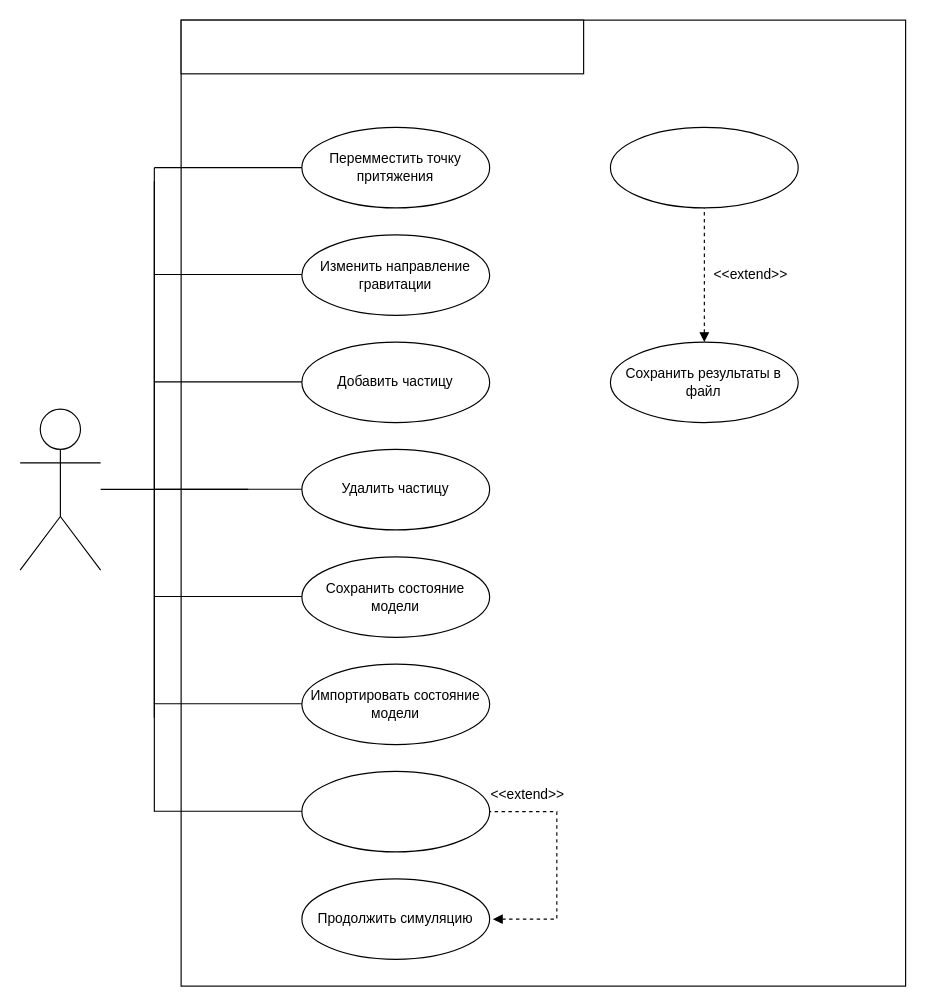
The diagram is 926 pixels wide and 1006 high, and some of its shapes have lost their labels. The centre of each missing label's shape, as x and y in pixels:
"Выполнить тестирование эффективности" goes at [703,167].
"Остановить симуляцию" goes at [395,811].
"Пользователь" goes at [60,489].
"Симуляция физической модели" goes at [382,46].
